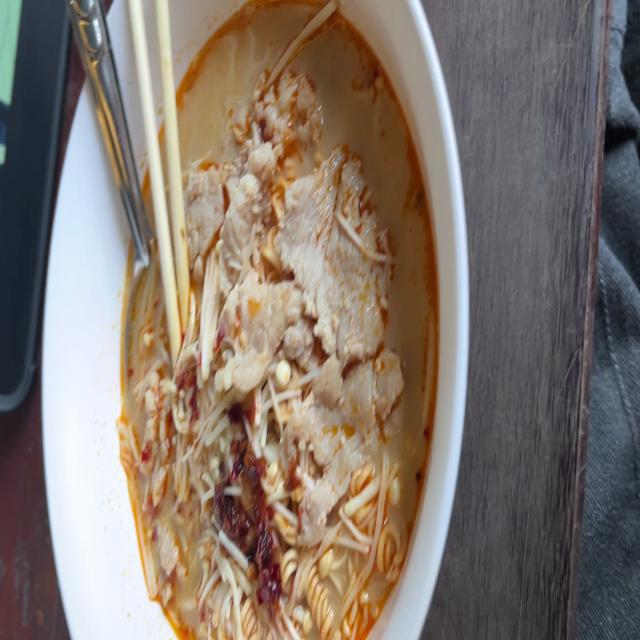noodle: (108, 0, 450, 640)
